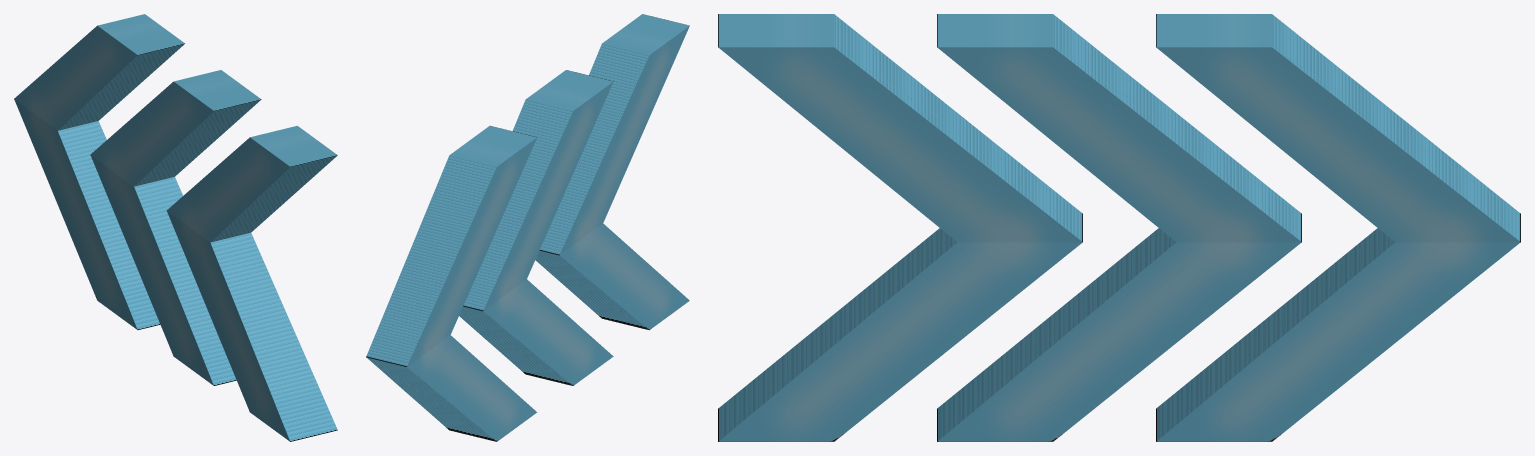
File: Speed Boost Powerup.fbx
3 renders of one model, left to right at view 1: azimuth 30°, elevation 25°; view 2: azimuth 150°, elevation 25°; view 3: azimuth 270°, elevation 25°, orthographic. The views are drawn at different scales.
Visible parts, largest first — view 1: Cube; view 2: Cube; view 3: Cube.
Part boxes in pixels (x1=…): Cube: x1=14, y1=14, x2=337, y2=441; Cube: x1=366, y1=14, x2=689, y2=441; Cube: x1=718, y1=14, x2=1520, y2=441.
Bounding box in the file's own units: 233 × 1287 × 2373.
